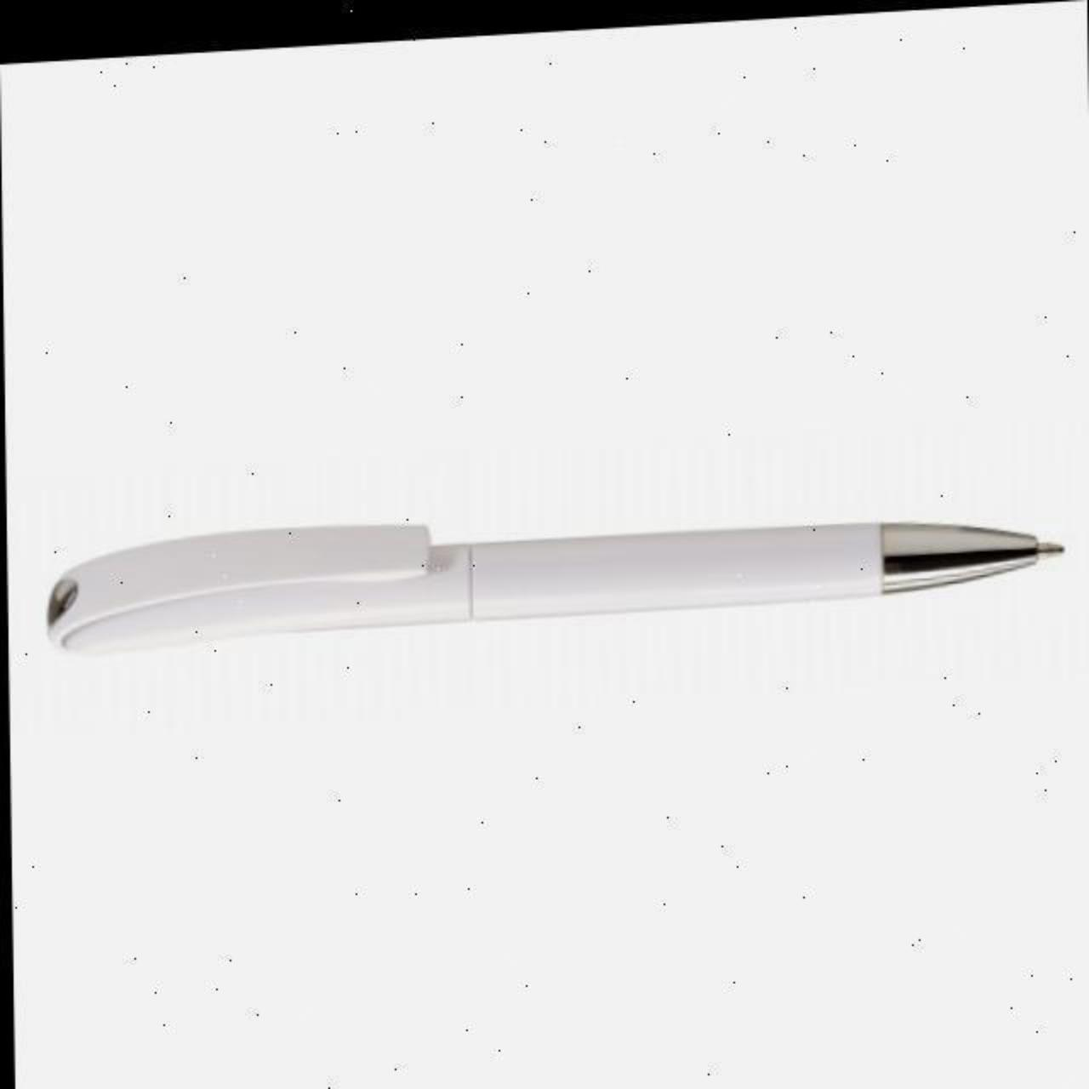pen: (41, 476, 1063, 647)
